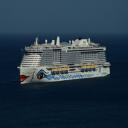cruises: (17, 35, 112, 87)
